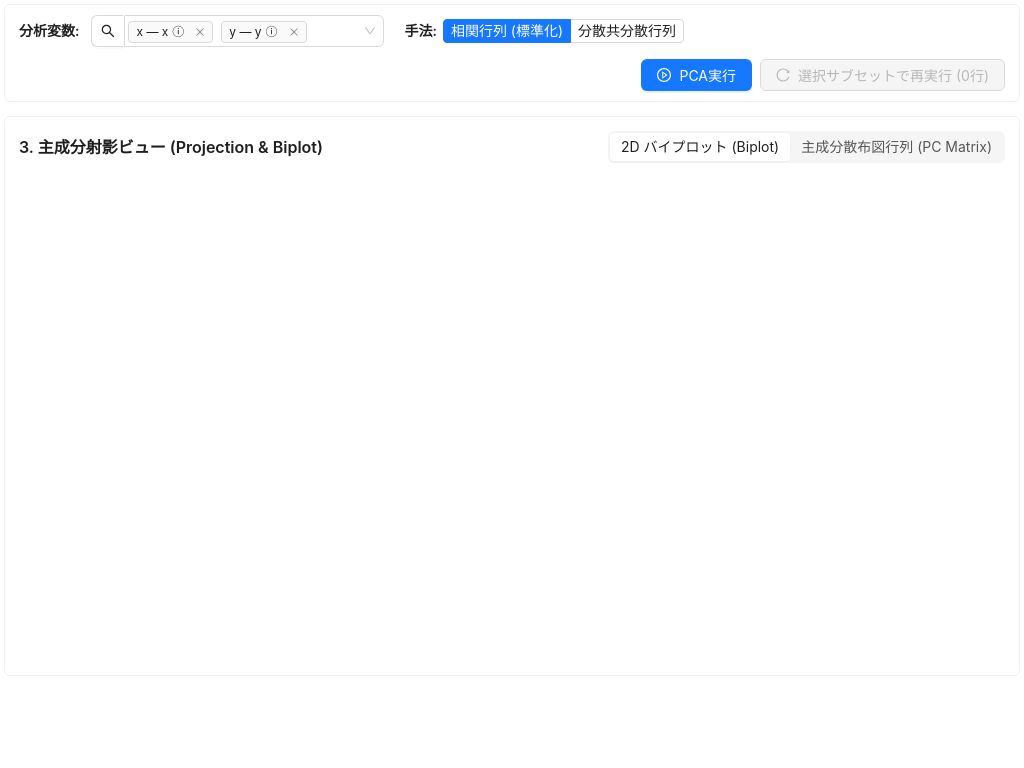
it: runs PCA manually with ordinary columns and preserves empty scope
Step 1. Click the button with test id "pca-run-button" → (697, 75), box [642,59,752,91]
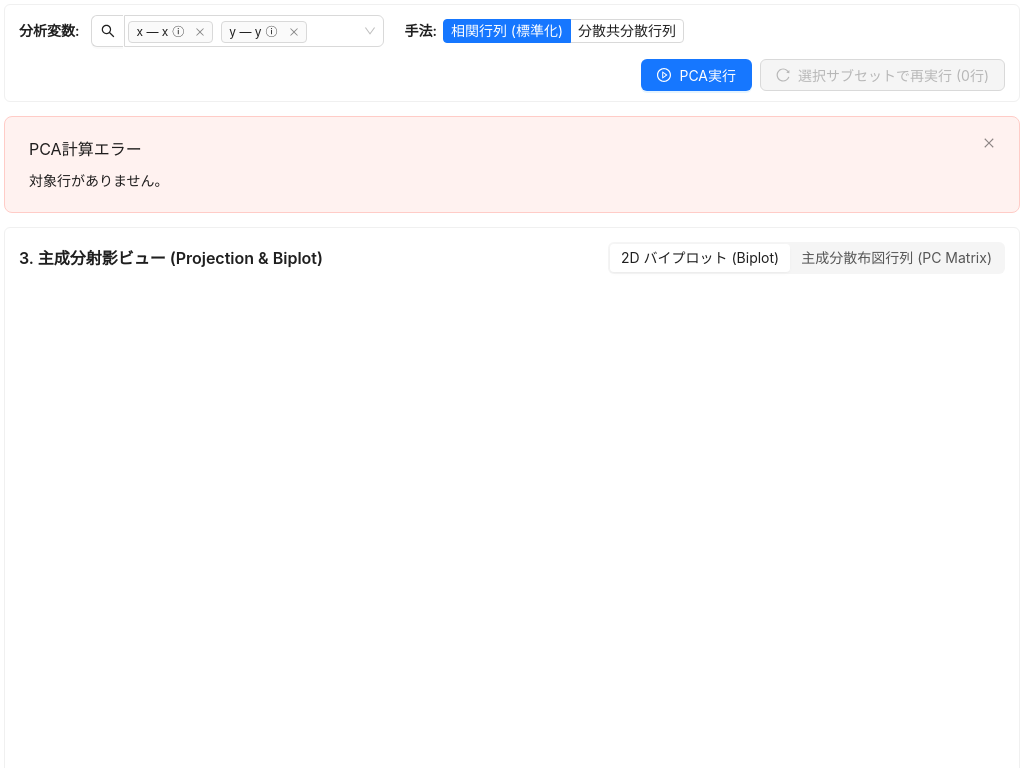
Expected: the text "対象行がありません。" is shown, [29,172,169,189]
